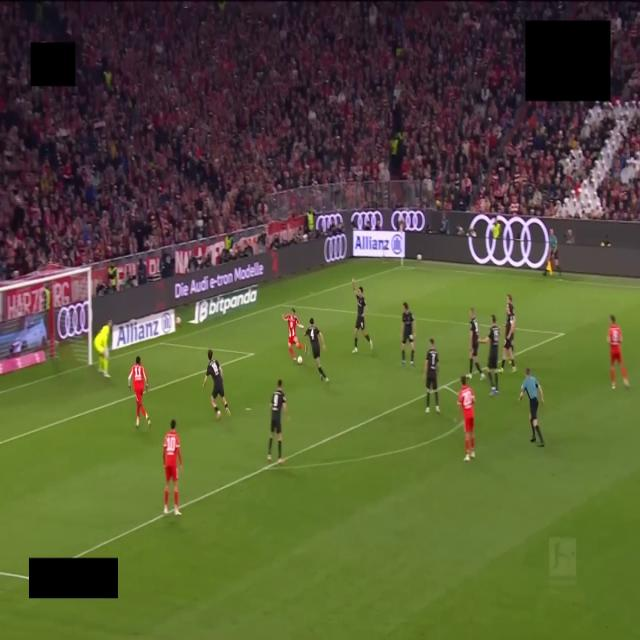ball: (297, 356, 302, 364)
player: (203, 350, 230, 418), (163, 420, 182, 515), (455, 376, 475, 462), (268, 380, 287, 463), (128, 356, 150, 427), (608, 315, 628, 389), (305, 318, 328, 382), (352, 280, 372, 353), (481, 315, 499, 395), (499, 295, 515, 373), (283, 309, 305, 361), (424, 339, 439, 413), (469, 308, 484, 380), (94, 320, 112, 377), (401, 303, 415, 366)
referee: (519, 368, 544, 447)
